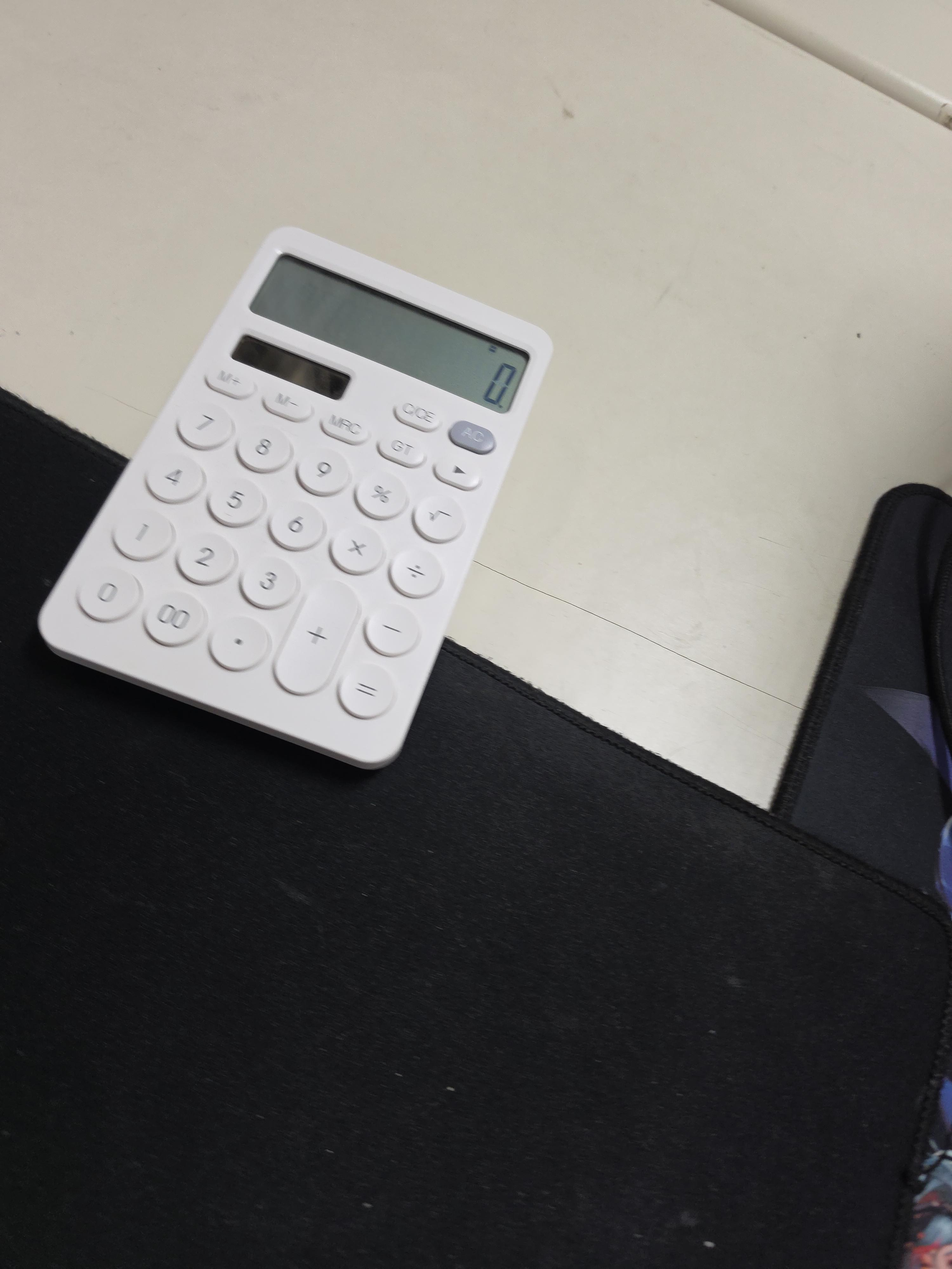calculator: (36, 226, 552, 770)
